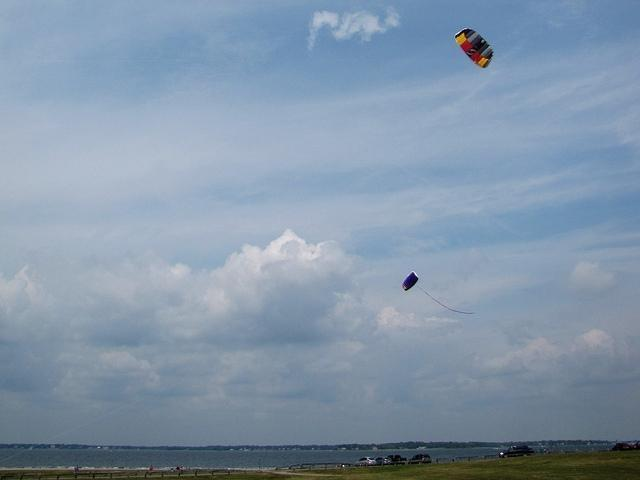car: (498, 444, 534, 458), (408, 454, 432, 464), (388, 455, 408, 465), (611, 442, 633, 451), (354, 458, 377, 466), (374, 456, 392, 466), (631, 438, 640, 450)
